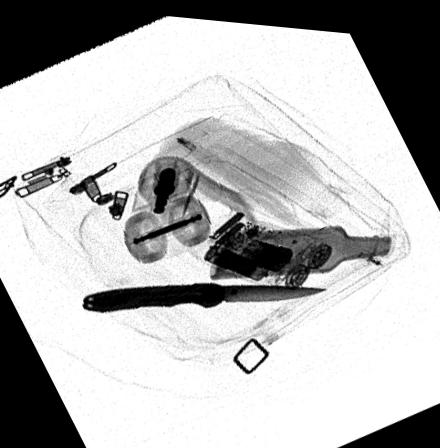Knife: (80, 277, 330, 310)
